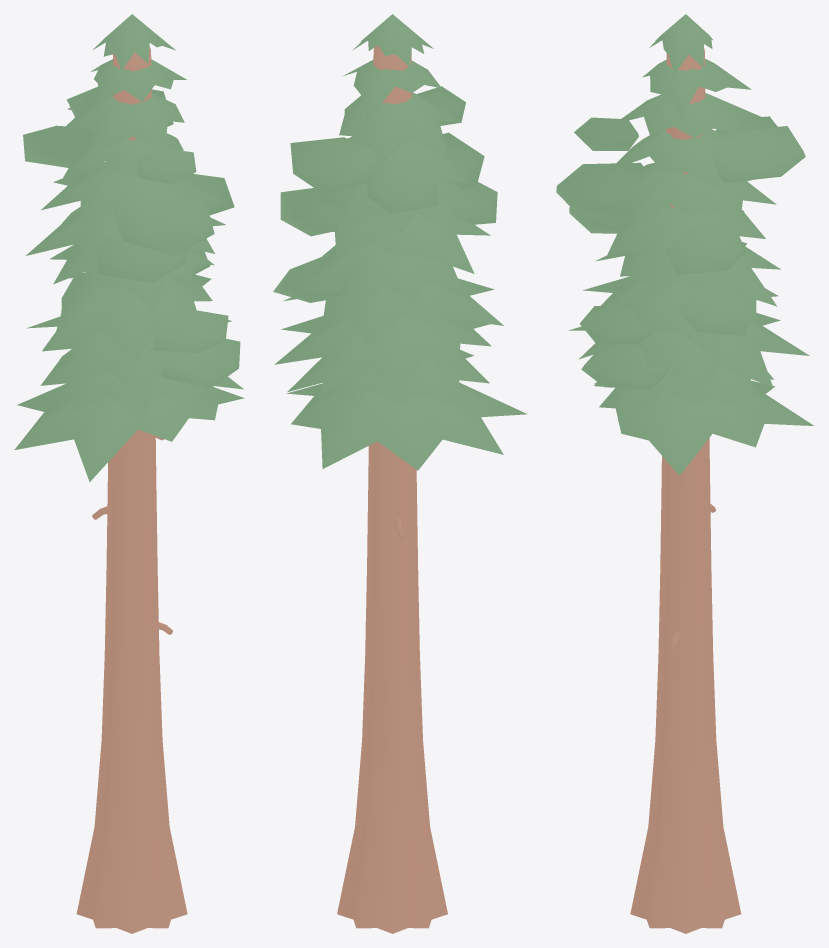
File: Blender_Redwood_1_Far.glb
3 renders of one model, left to right at view 1: azimuth 30°, elevation 25°; view 2: azimuth 150°, elevation 25°; view 3: azimuth 270°, elevation 25°, orthographic.
Visible parts, largest first — view 1: Blender_Redwood_1_Far; view 2: Blender_Redwood_1_Far; view 3: Blender_Redwood_1_Far.
Part boxes in pixels (left/top/right/bottom): Blender_Redwood_1_Far: left=14, top=14, right=244, bottom=933; Blender_Redwood_1_Far: left=273, top=14, right=527, bottom=933; Blender_Redwood_1_Far: left=556, top=14, right=813, bottom=933.
Size of the model in its own units: 26.19 by 99.93 by 26.13.
